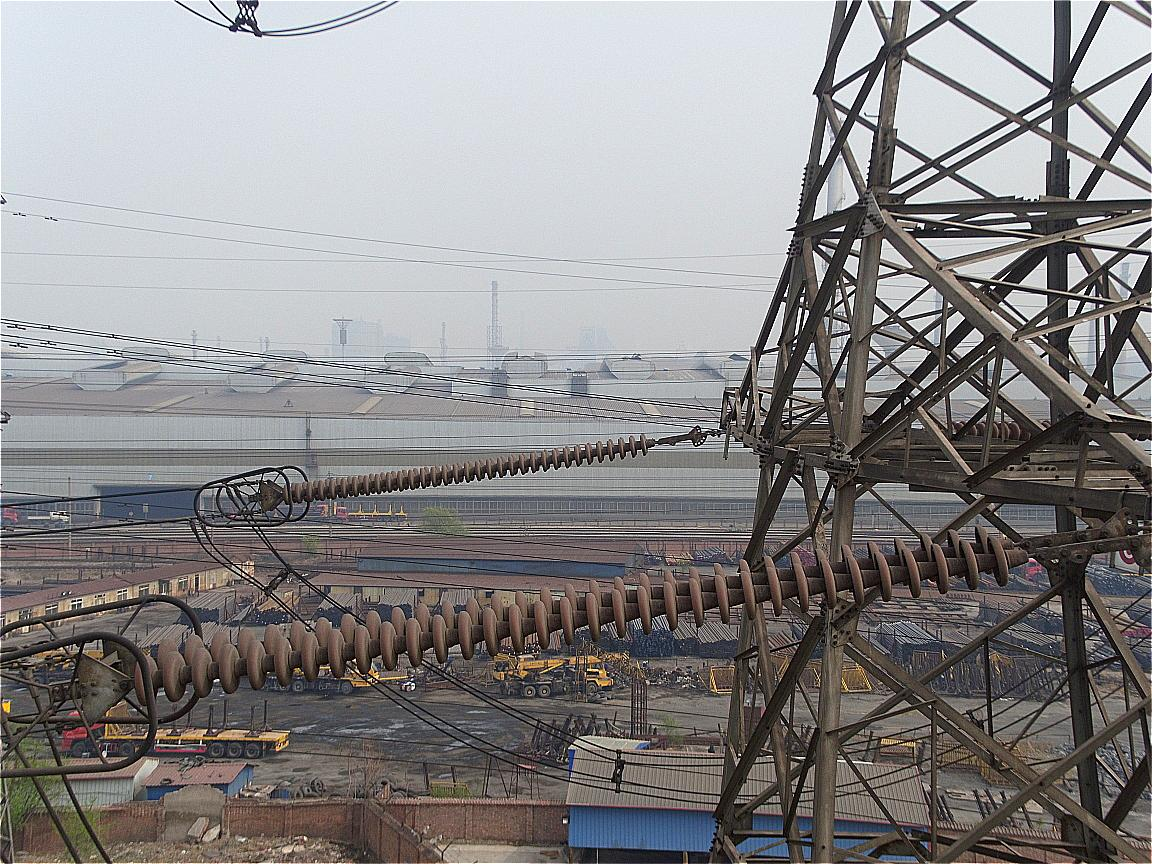insultor1: (134, 528, 1008, 706), (282, 431, 649, 504)
